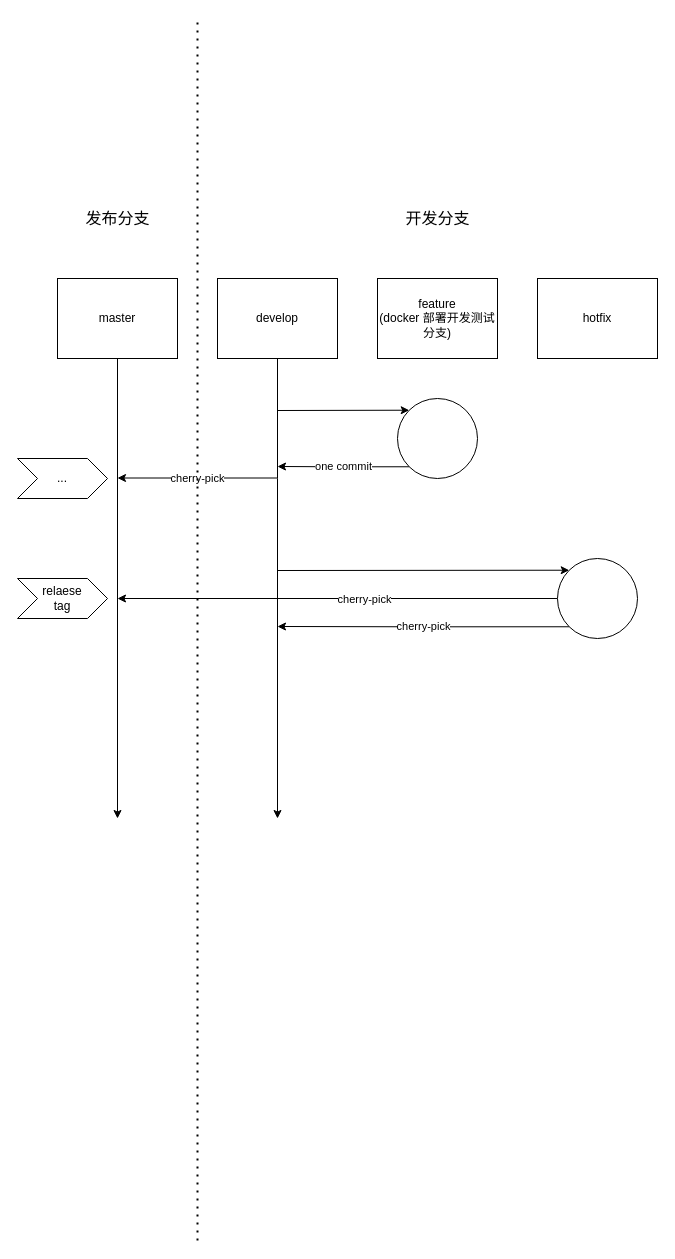
Some shapes in this 675 by 1259 pixel diagram are drawn without their labels. Here are the shapes that lost their labels. From the top down, the box of each, then its label:
(396, 398, 478, 478): feature-x
(556, 558, 638, 638): hotfix-x
